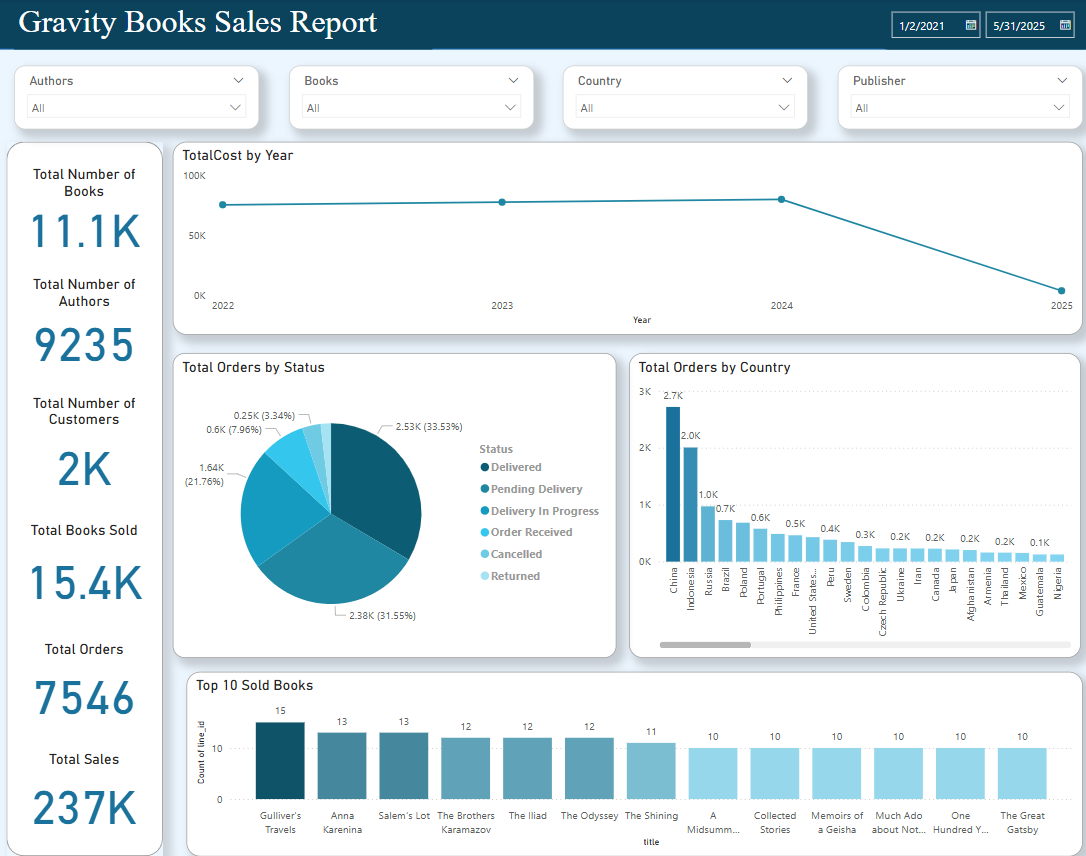

Layout of this report page (visuals, bound fields, positions):
{"tool":"powerbi","page":{"name":"Page 1","canvas":[1280,1000],"ordinal":0},"visuals":[{"type":"shape","box":[9.4,167.7,182.2,832.3],"z":0},{"type":"shape","box":[0,0,1279.8,59.8],"z":1},{"type":"textbox","box":[17.3,0,486.8,59.7],"z":2},{"type":"card","title":"Total Number of Books","fields":{"Values":["CountNonNull(Dim_Books.book_id)"]},"box":[19.4,194.7,160.2,103.6],"z":3},{"type":"slicer","fields":{"Values":["Dim_Authors.author_name"]},"box":[17.4,78.5,285.4,74.8],"z":4},{"type":"slicer","fields":{"Values":["Dim_Books.title"]},"box":[337.3,78.5,285.4,74.8],"z":5},{"type":"slicer","fields":{"Values":["Dim_Customers.country_name"]},"box":[657.1,78.5,285.4,74.8],"z":6},{"type":"slicer","fields":{"Values":["Dim_Books.publisher_name"]},"box":[977,78.5,285.4,74.8],"z":7},{"type":"slicer","fields":{"Values":["DimDate.Date"]},"box":[1020.6,0,259.2,59.8],"z":8},{"type":"card","title":"Total Number of Authors","fields":{"Values":["CountNonNull(Dim_Authors.author_id)"]},"box":[19.4,323.2,160.2,113.1],"z":9},{"type":"card","title":"Total Number of Customers","fields":{"Values":["Count(Dim_Customers.customer_id)"]},"box":[19.4,461.1,160.2,124.1],"z":10},{"type":"card","title":"Total Books Sold","fields":{"Values":["Count(SalesFactTable.line_id)"]},"box":[19.4,609.9,160.2,113.1],"z":11},{"type":"card","title":"Total Orders","fields":{"Values":["Count(SalesFactTable.order_id)"]},"box":[19.4,747.8,160.2,103.6],"z":12},{"type":"card","title":"Total Sales","fields":{"Values":["SalesFactTable.TotalCost"]},"box":[19.4,876.3,160.2,103.6],"z":13},{"type":"lineChart","fields":{"Category":["DimDate.Date.Variation.Date Hierarchy.Year","DimDate.Date.Variation.Date Hierarchy.Quarter","DimDate.Date.Variation.Date Hierarchy.Month","DimDate.Date.Variation.Date Hierarchy.Day"],"Y":["SalesFactTable.TotalCost"]},"box":[202.6,168,1060,224.6],"z":14},{"type":"columnChart","fields":{"Category":["Dim_Customers.country_name"],"Y":["CountNonNull(SalesFactTable.order_id)"]},"box":[733.4,413,526.1,354.9],"z":16},{"type":"pieChart","fields":{"Y":["Count(SalesFactTable.order_id)"],"Category":["SalesFactTable.status_value"]},"box":[202.6,413,516.6,354.9],"z":17},{"type":"columnChart","title":"Top 10 Sold Books","fields":{"Y":["Count(SalesFactTable.line_id)"],"Category":["Dim_Books.title"]},"box":[218.3,785.2,1044.3,215.1],"z":18}]}

Visuals, with their boxes in screenshot pixels (x1, y1, x2, y2), scaled from the page's 1280x1000 canvas onto the 1086x856 screenshot:
shape: (8, 144, 163, 855)
shape: (0, 0, 1085, 51)
textbox: (15, 0, 428, 51)
"Total Number of Books" card: (16, 167, 152, 255)
slicer - Dim_Authors.author_name: (15, 67, 257, 131)
slicer - Dim_Books.title: (286, 67, 528, 131)
slicer - Dim_Customers.country_name: (558, 67, 800, 131)
slicer - Dim_Books.publisher_name: (829, 67, 1071, 131)
slicer - DimDate.Date: (866, 0, 1085, 51)
"Total Number of Authors" card: (16, 277, 152, 373)
"Total Number of Customers" card: (16, 395, 152, 501)
"Total Books Sold" card: (16, 522, 152, 619)
"Total Orders" card: (16, 640, 152, 729)
"Total Sales" card: (16, 750, 152, 839)
lineChart - DimDate.Date.Variation.Date Hierarchy.Year x DimDate.Date.Variation.Date Hierarchy.Quarter: (172, 144, 1071, 336)
columnChart - Dim_Customers.country_name x CountNonNull(SalesFactTable.order_id): (622, 354, 1069, 657)
pieChart - Count(SalesFactTable.order_id) x SalesFactTable.status_value: (172, 354, 610, 657)
"Top 10 Sold Books" columnChart: (185, 672, 1071, 855)
